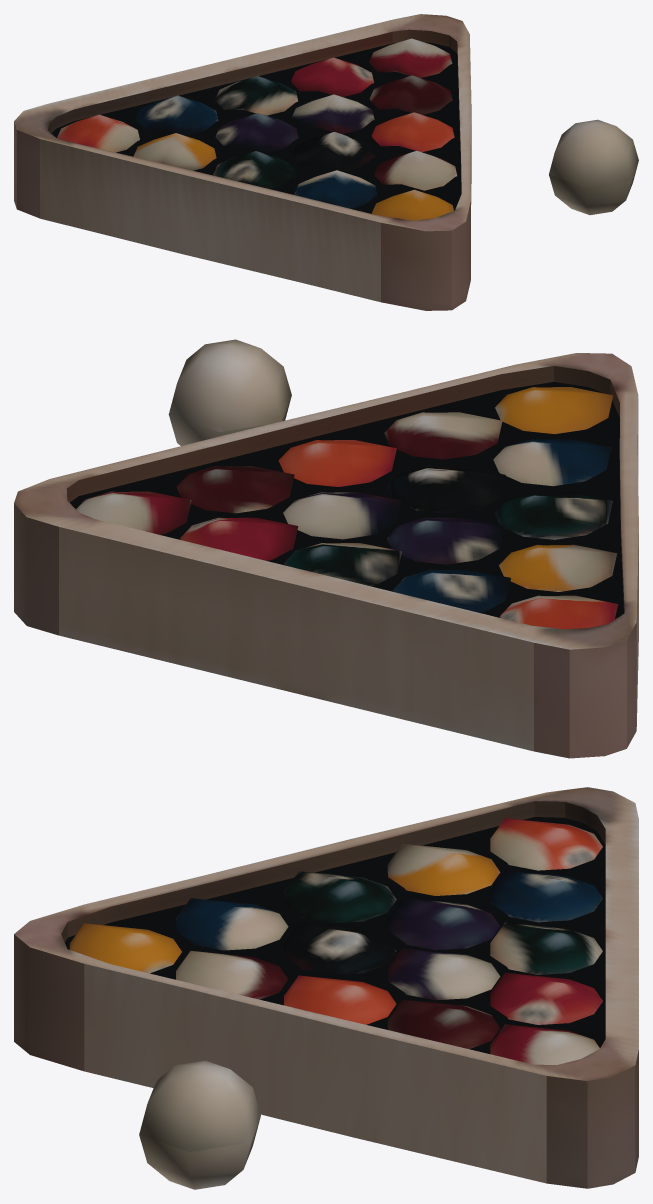
Rendered from b_balls.fbx.
3 views of the same model, one above another, from view 1: azimuth 30°, elevation 25°; view 2: azimuth 150°, elevation 25°; view 3: azimuth 270°, elevation 25° (orthographic). The views are drawn at different scales.
Parts seen in each view (by area): view 1: Circle.013; view 2: Circle.013; view 3: Circle.013.
Part boxes in pixels (x1,y1,x2,y2): Circle.013: (14,14,638,310); Circle.013: (14,339,638,758); Circle.013: (14,787,638,1189).
Size of the model in its own units: 499 by 87.69 by 421.
